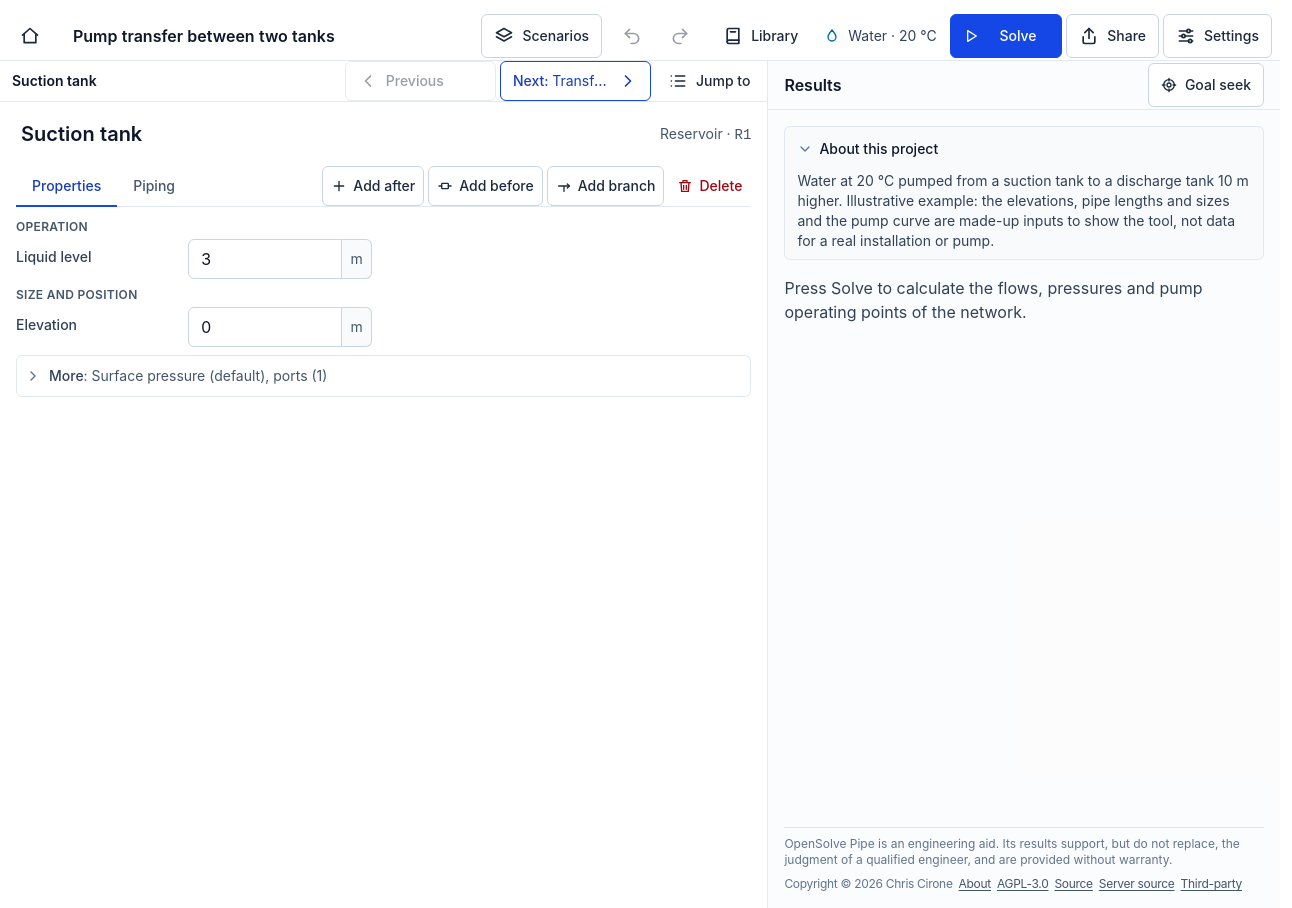
results state › after a failed solve and a cancelled one: the failed one is the last that finished
This screenshot has width=1292, height=908.
Click the button "Solve" at (1006, 36), box [950,14,1062,58]
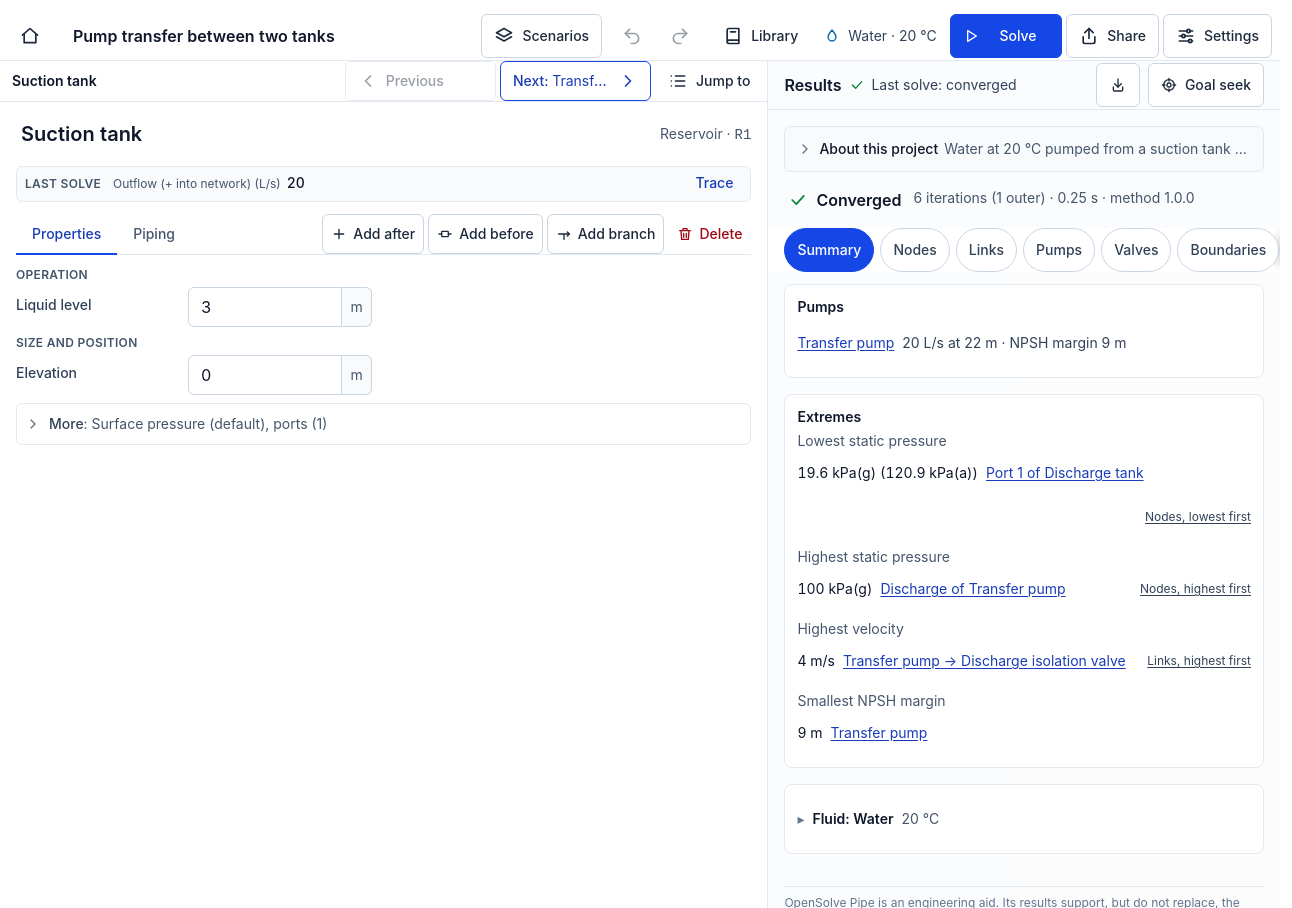
Click the button "Solve" at (1006, 36), box [950,14,1062,58]
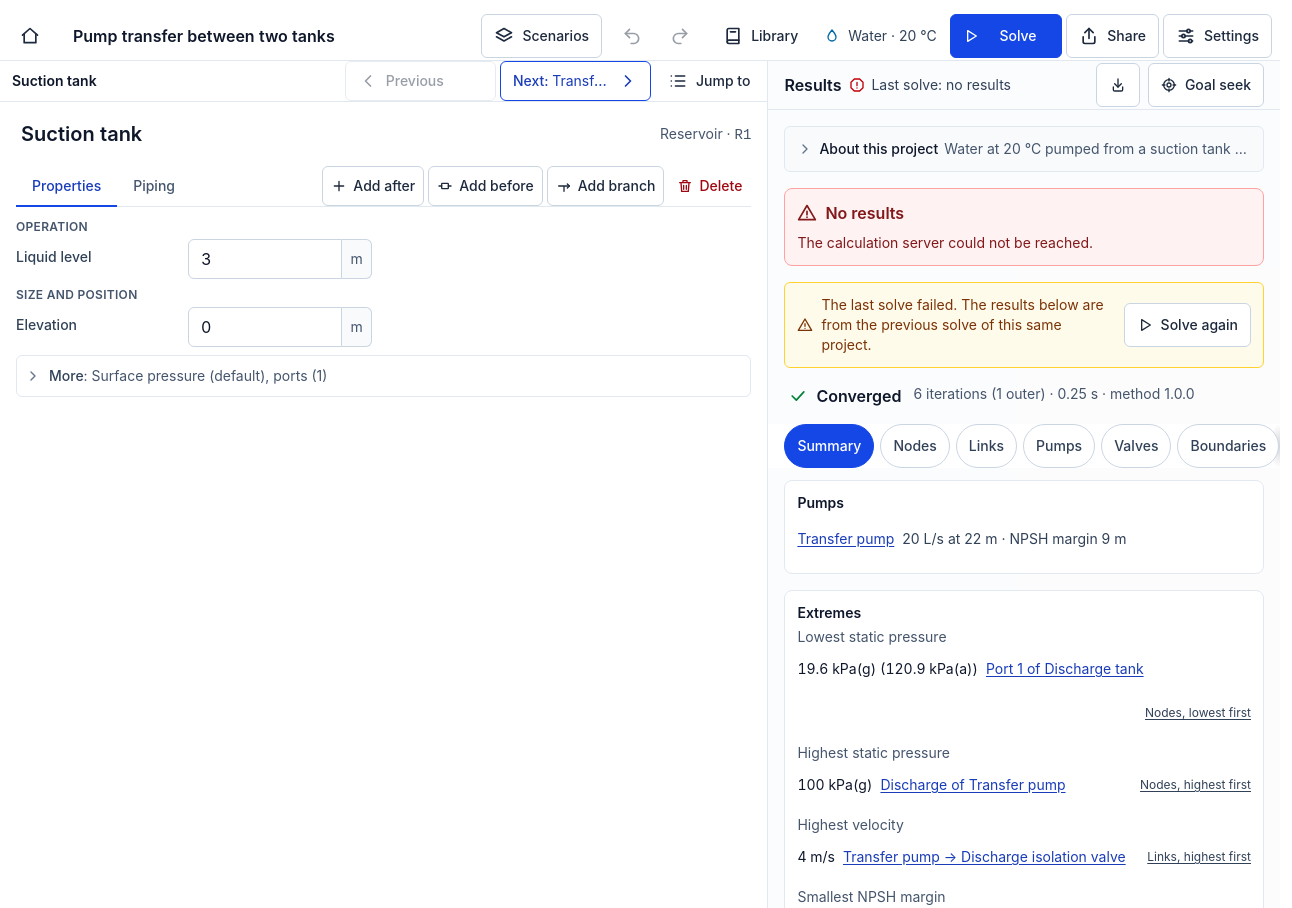
Check: the text "The calculation server could not be reached." is shown, box [797,234,1093,251]
Click the button "Solve" at (1006, 36), box [950,14,1062,58]
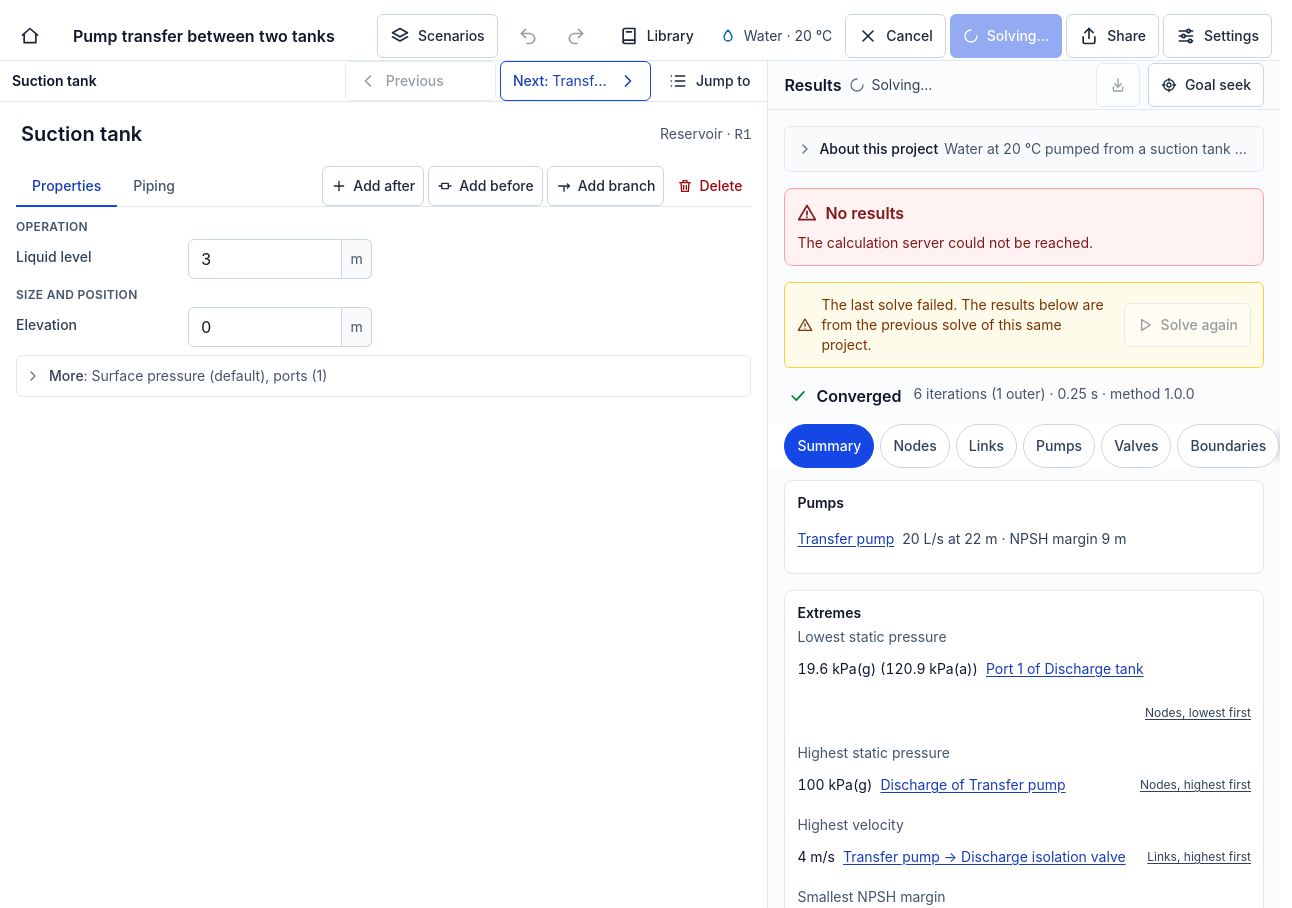
Click the button with aria-label "Cancel solve" at (896, 36), box [845,14,946,58]
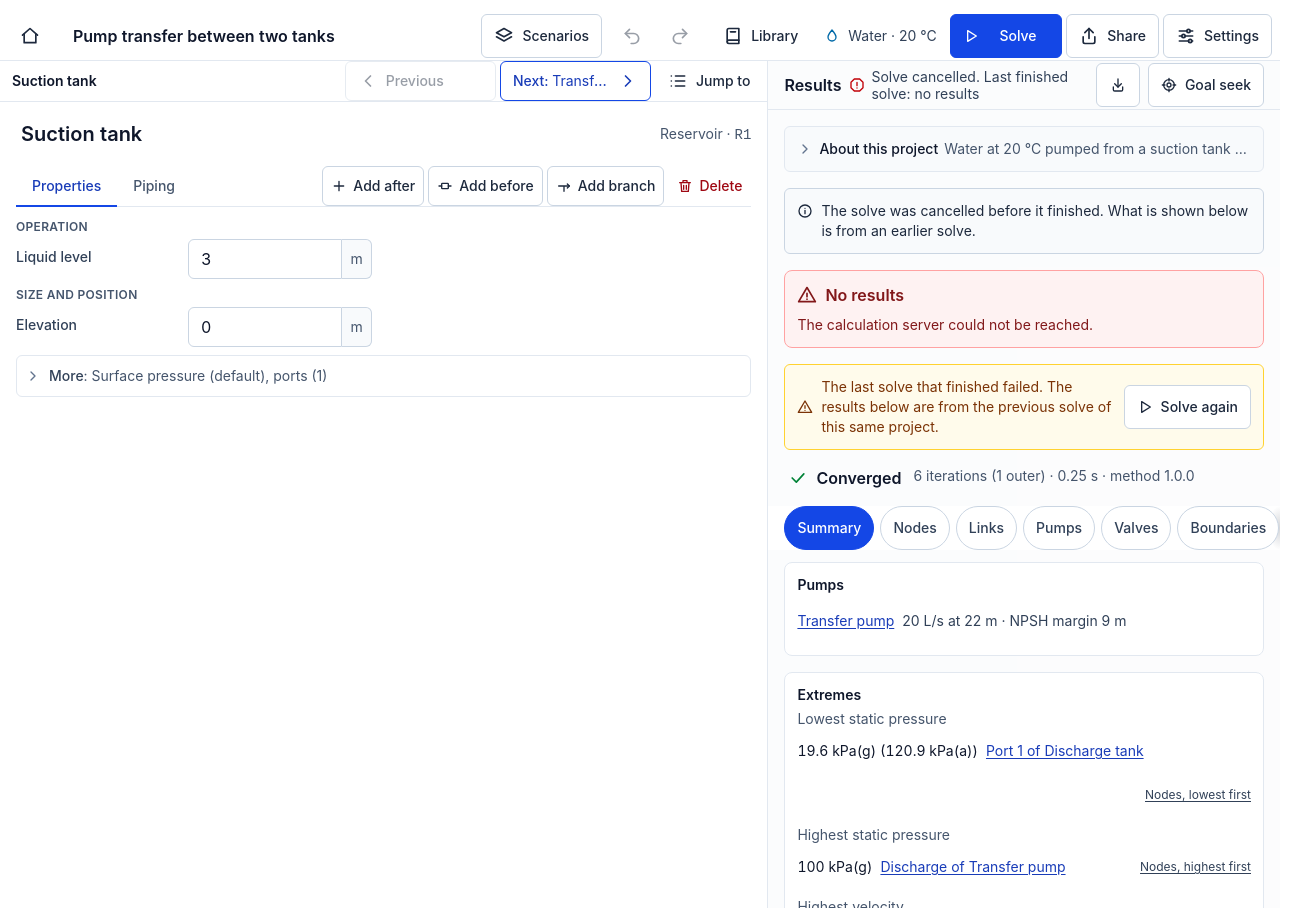
Check: the text "The calculation server could not be reached." is shown, box [797,316,1093,333]
Check: the message reads "Solve cancelled. Last finished solve: no results", box [871,68,1068,102]
Check: the text "The last solve that finished failed. The results below are from the previous solve of this same project." is shown, box [821,378,1111,435]
